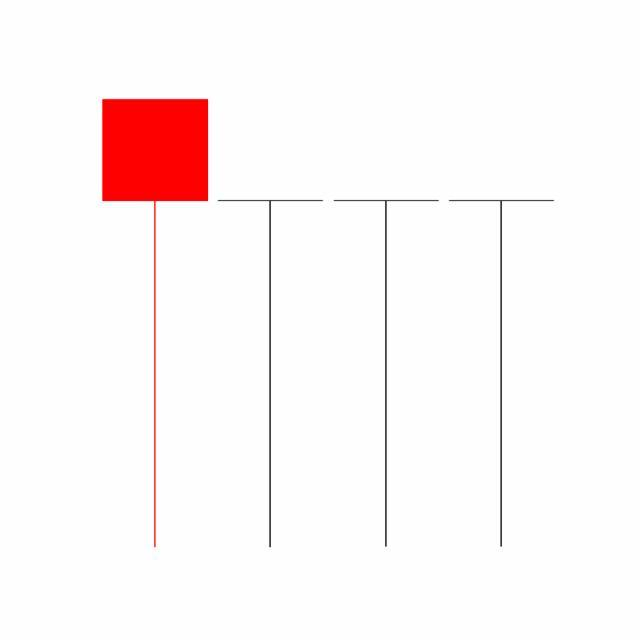Dragonfly Doji: (444, 198, 560, 552)
